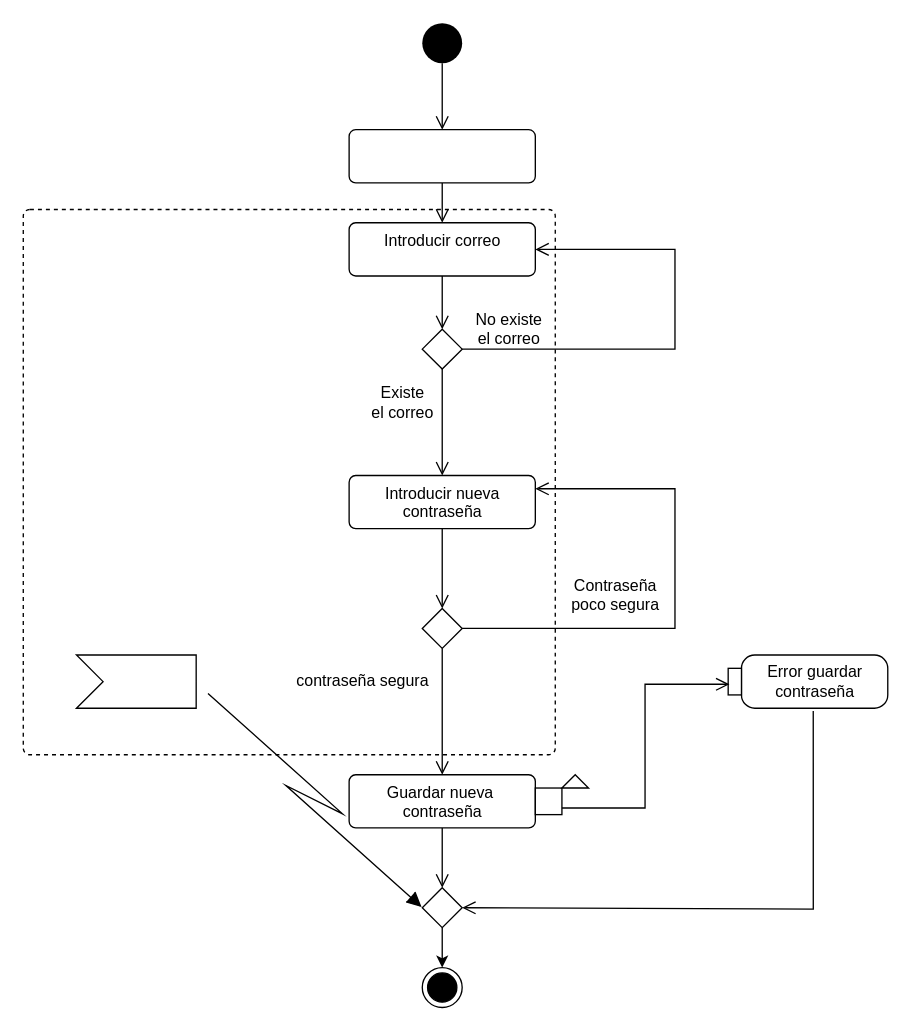
Image size: 911x1031. Some labels were removed from this diagram. Each missing label, with the box of its shape:
Cancelar: (75, 654, 196, 708)
Seleccionar Recuperar Contraseña: (348, 128, 535, 183)
